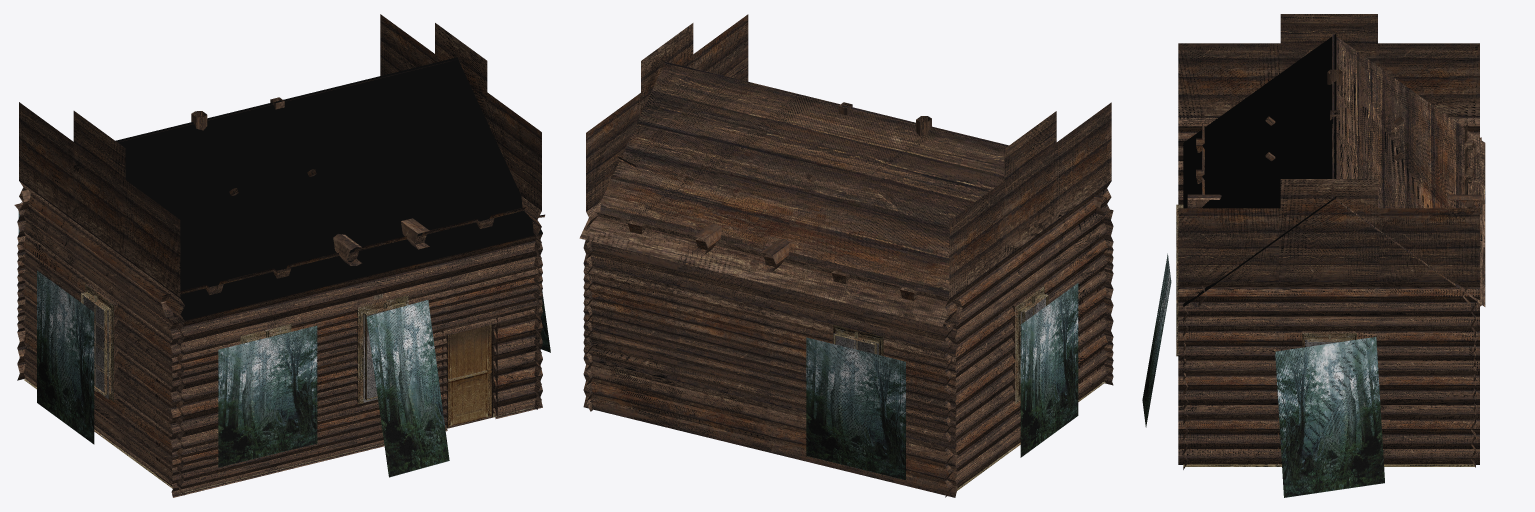
3 views of the same model, side by side, from view 1: azimuth 30°, elevation 25°; view 2: azimuth 150°, elevation 25°; view 3: azimuth 270°, elevation 25° (orthographic). The views are drawn at different scales.
Parts seen in each view (by area): view 1: skpE50E (×15); view 2: skpE50E (×10); view 3: skpE50E (×10).
Boxes of the visible parts, <box> form: skpE50E (×15): <box>17,14,542,497</box>; skpE50E (×10): <box>579,14,1113,497</box>; skpE50E (×10): <box>1142,14,1485,497</box>.
Bounding box in the file's own units: 415 × 321 × 281.
